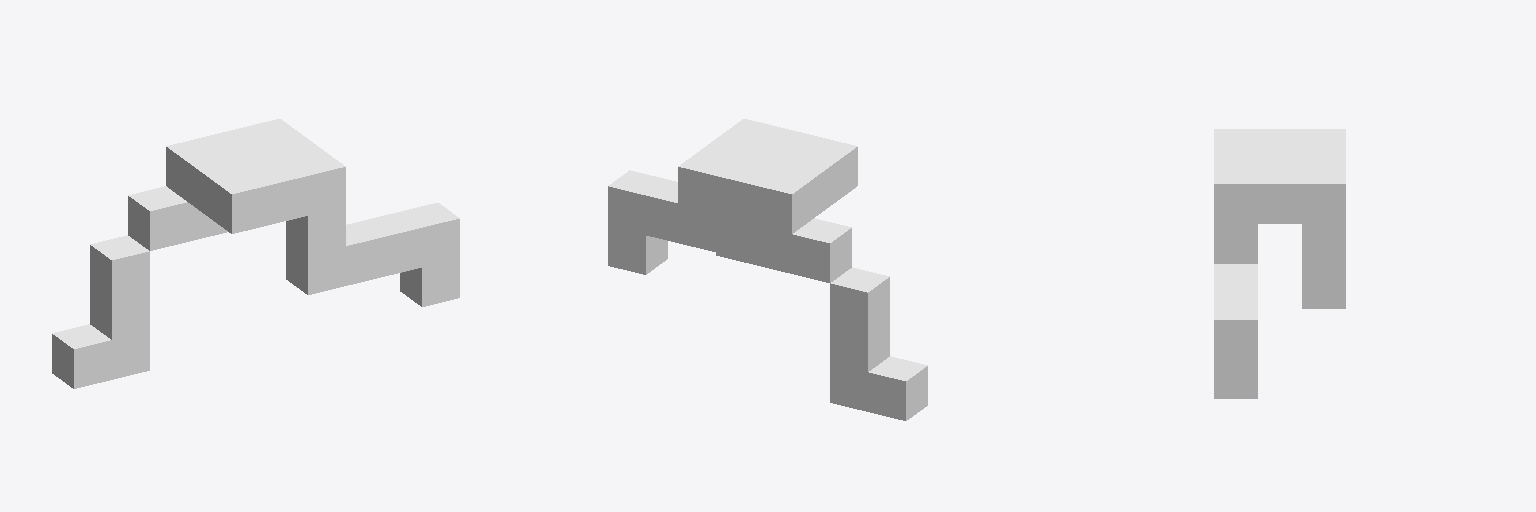
Rendered from human-2-torso_walk.obj.
3 views of the same model, side by side, from view 1: azimuth 30°, elevation 25°; view 2: azimuth 150°, elevation 25°; view 3: azimuth 270°, elevation 25° (orthographic).
Parts seen in each view (by area): view 1: torso_walk; view 2: torso_walk; view 3: torso_walk.
Boxes of the visible parts, box(x1,y1,x2,y2) form: torso_walk: box(52, 119, 459, 388); torso_walk: box(608, 119, 927, 420); torso_walk: box(1214, 129, 1345, 398).
Bounding box in the file's own units: 0.9 × 0.5 × 0.3.